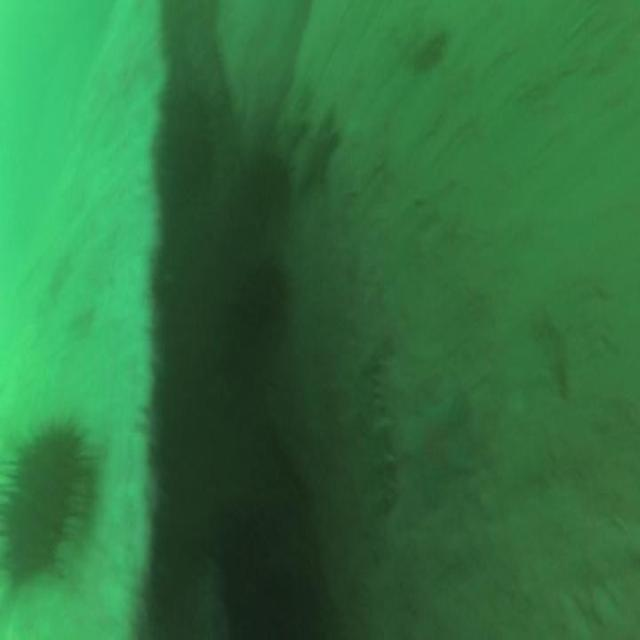echinus: (6, 428, 78, 574), (237, 572, 316, 638), (230, 157, 286, 229), (222, 504, 268, 575), (240, 266, 286, 334)
holothurian: (372, 359, 410, 504)
starfish: (405, 396, 471, 492), (300, 108, 342, 190)
